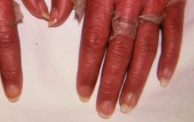SJS-TEN: (69, 0, 188, 45), (0, 0, 25, 29)
